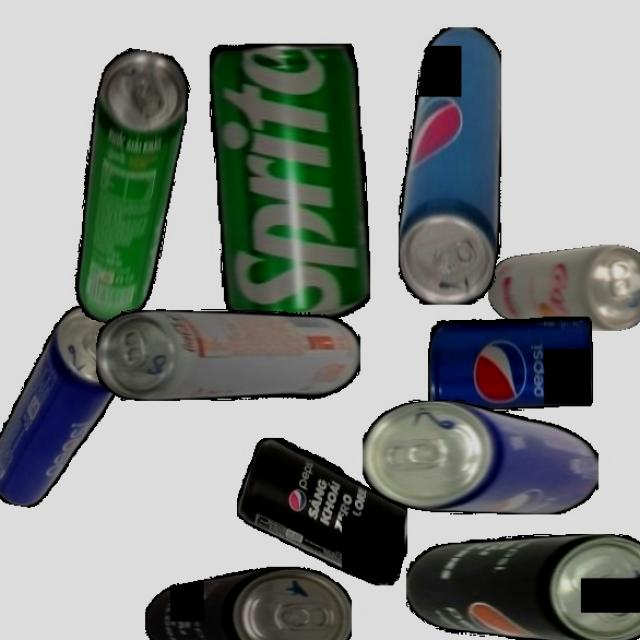debris: (209, 44, 370, 322), (58, 45, 196, 330), (0, 296, 137, 520), (398, 26, 502, 305), (362, 398, 598, 514), (236, 437, 407, 585), (405, 534, 640, 640), (96, 308, 361, 401), (427, 316, 593, 412), (144, 567, 352, 640), (487, 245, 640, 331)
